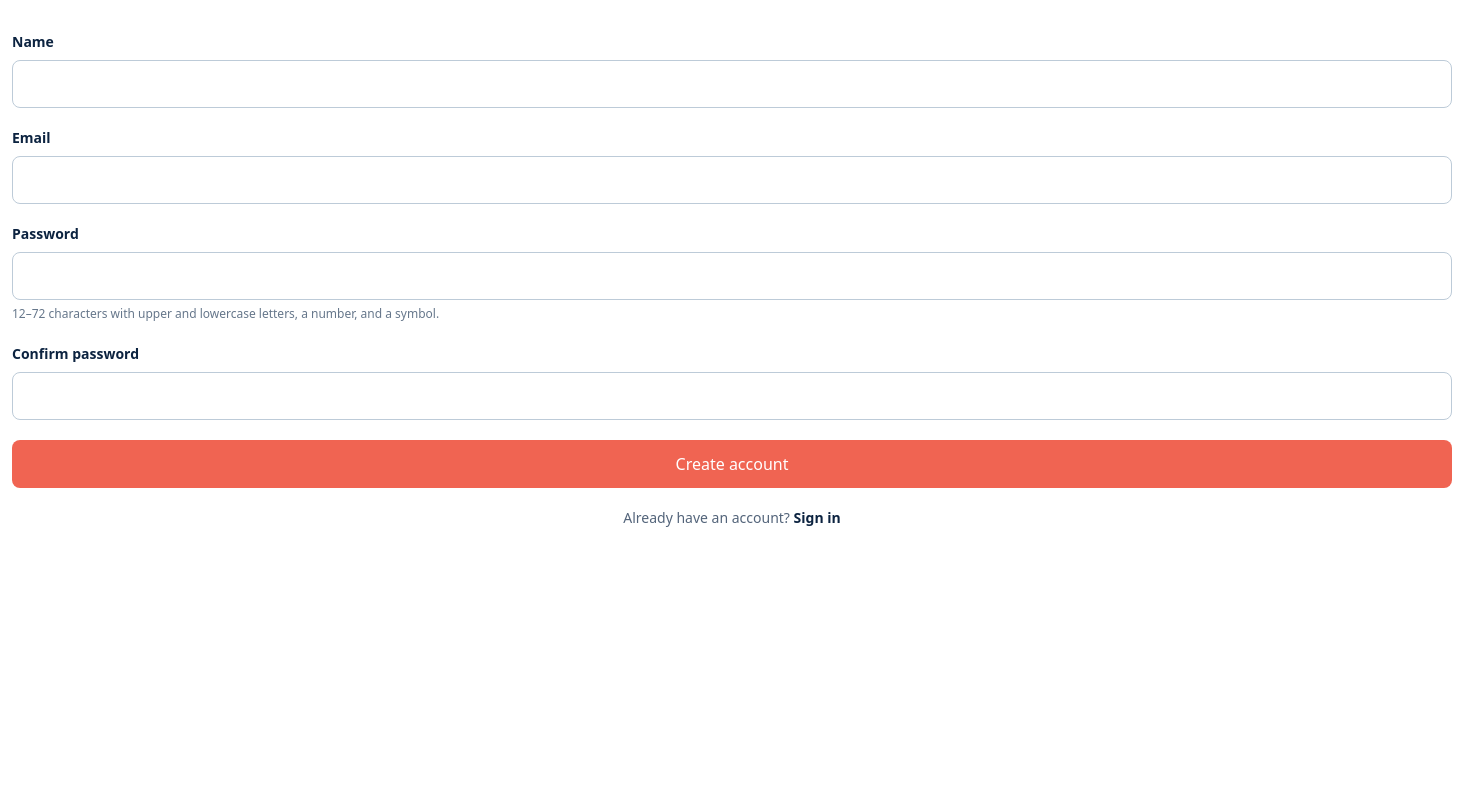
Test case: AuthForm › renders field-safe validation feedback
Type "Elena Rossi" into the field labelled "Name" at (732,84), box [12,60,1452,108]
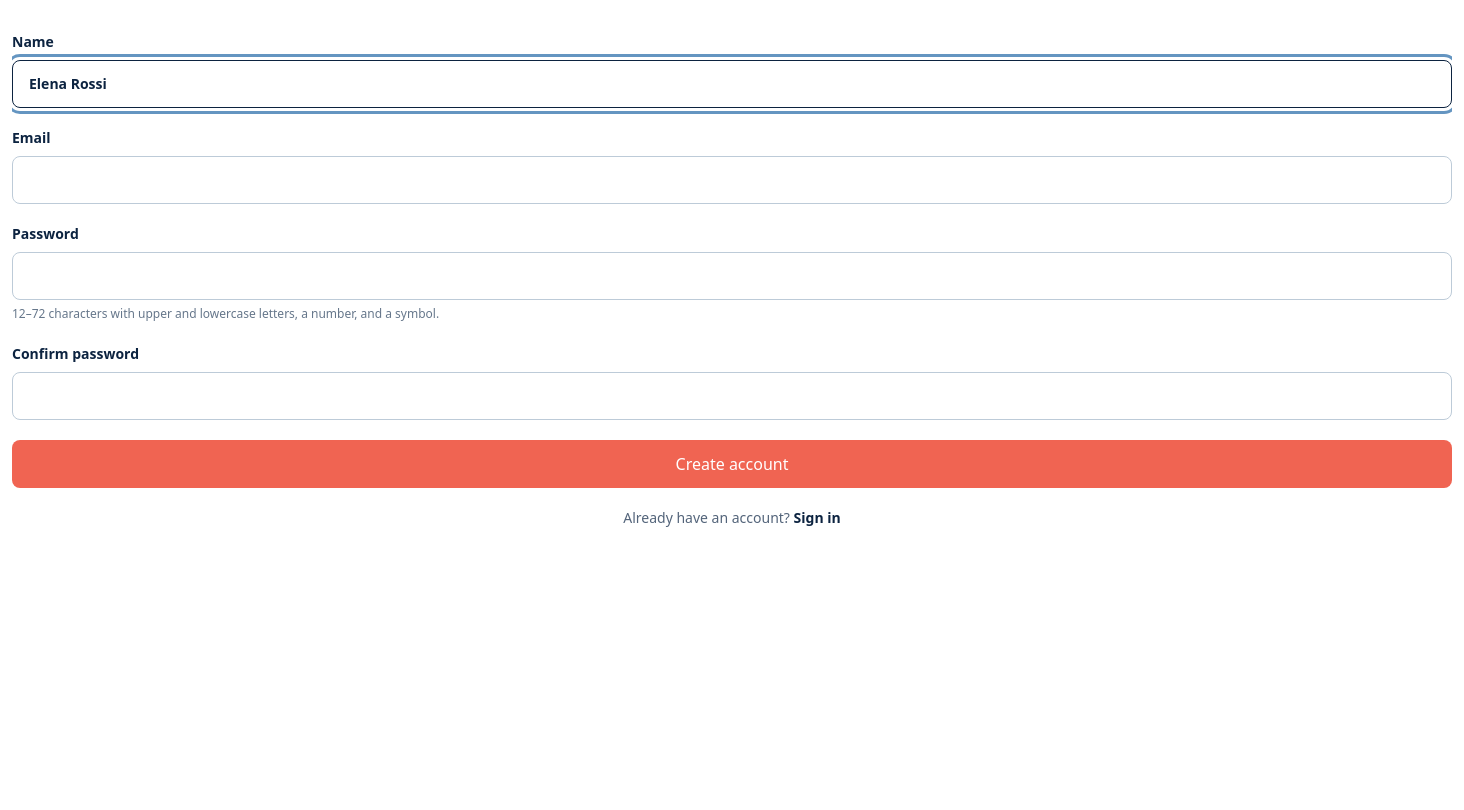
Type "elena@example.test" into the field labelled "Email" at (732,180), box [12,156,1452,204]
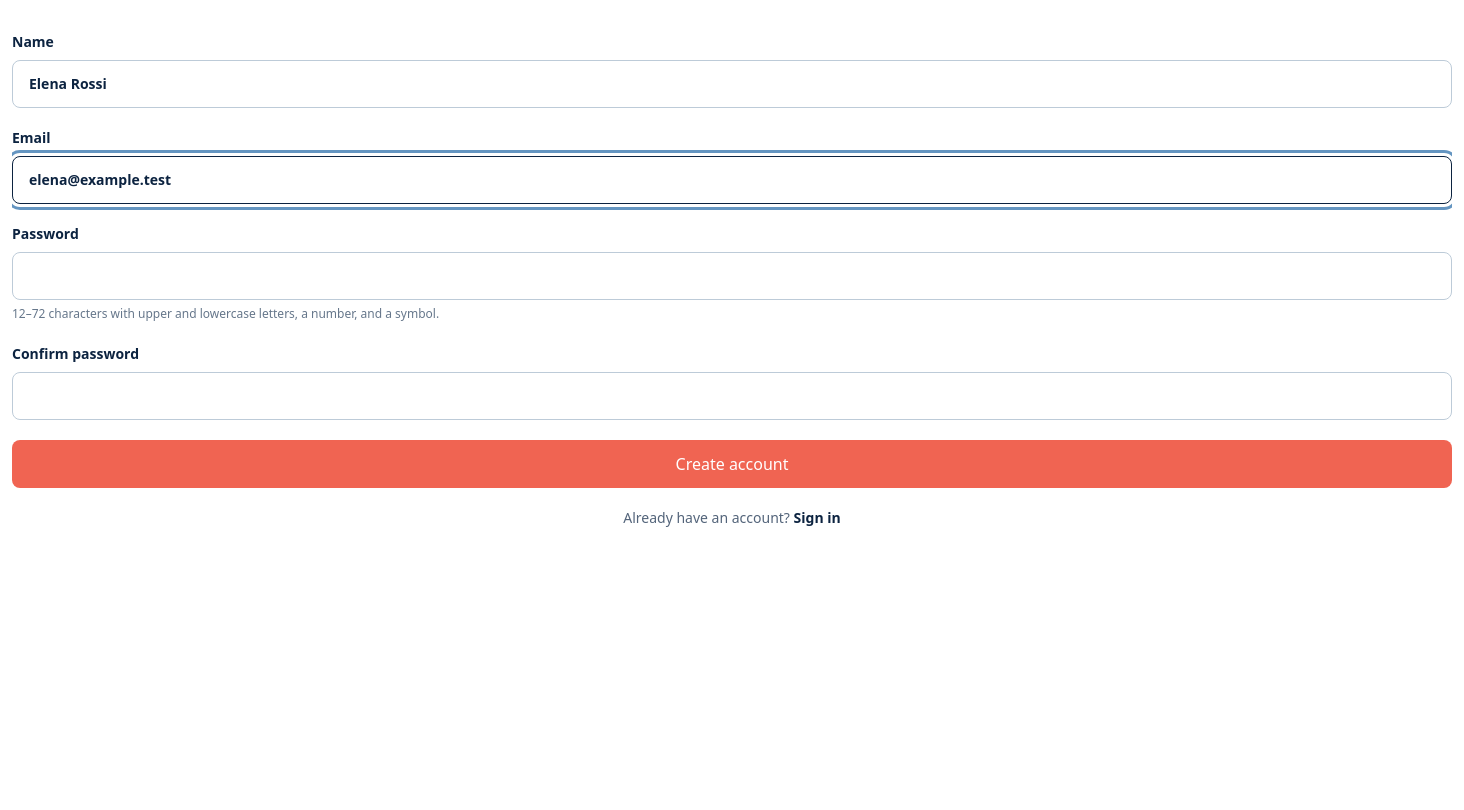
Type "Correct-Horse-Battery1!" into the password field labelled "Password" at (732,276), box [12,252,1452,300]
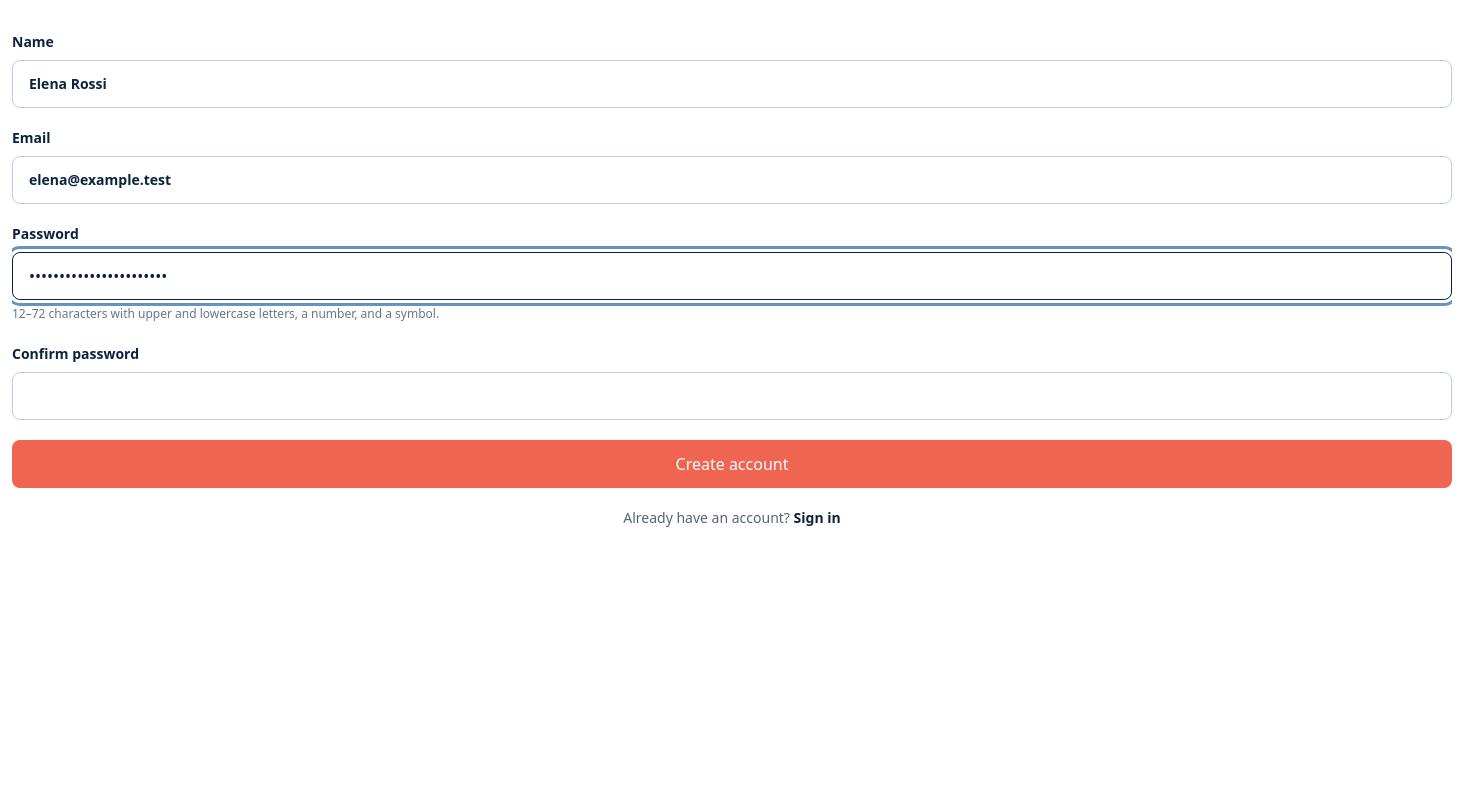
Type "Correct-Horse-Battery1!" into the password field labelled "Confirm password" at (732,396), box [12,372,1452,420]
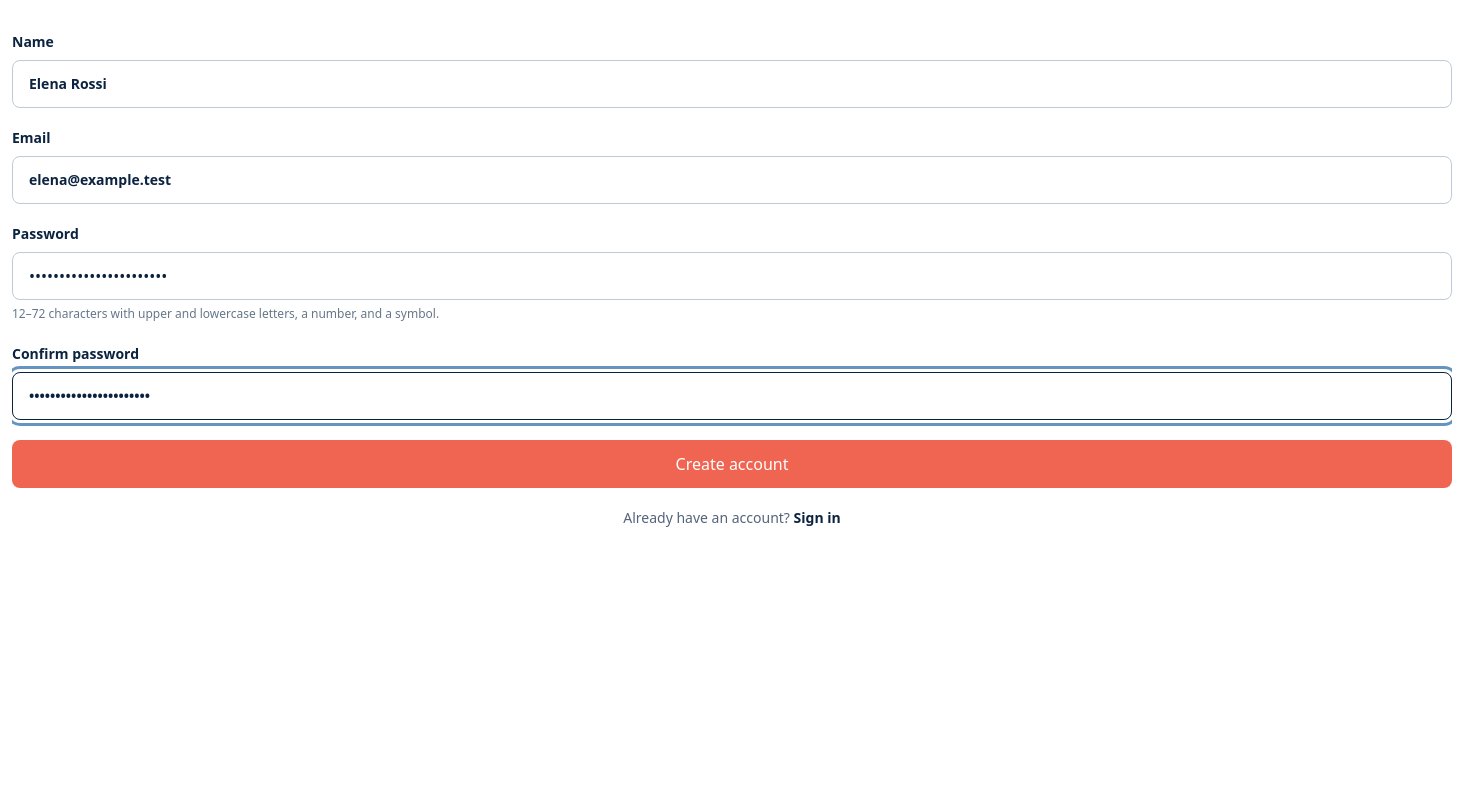
Click the button "Create account" at (732,464), box [12,440,1452,488]
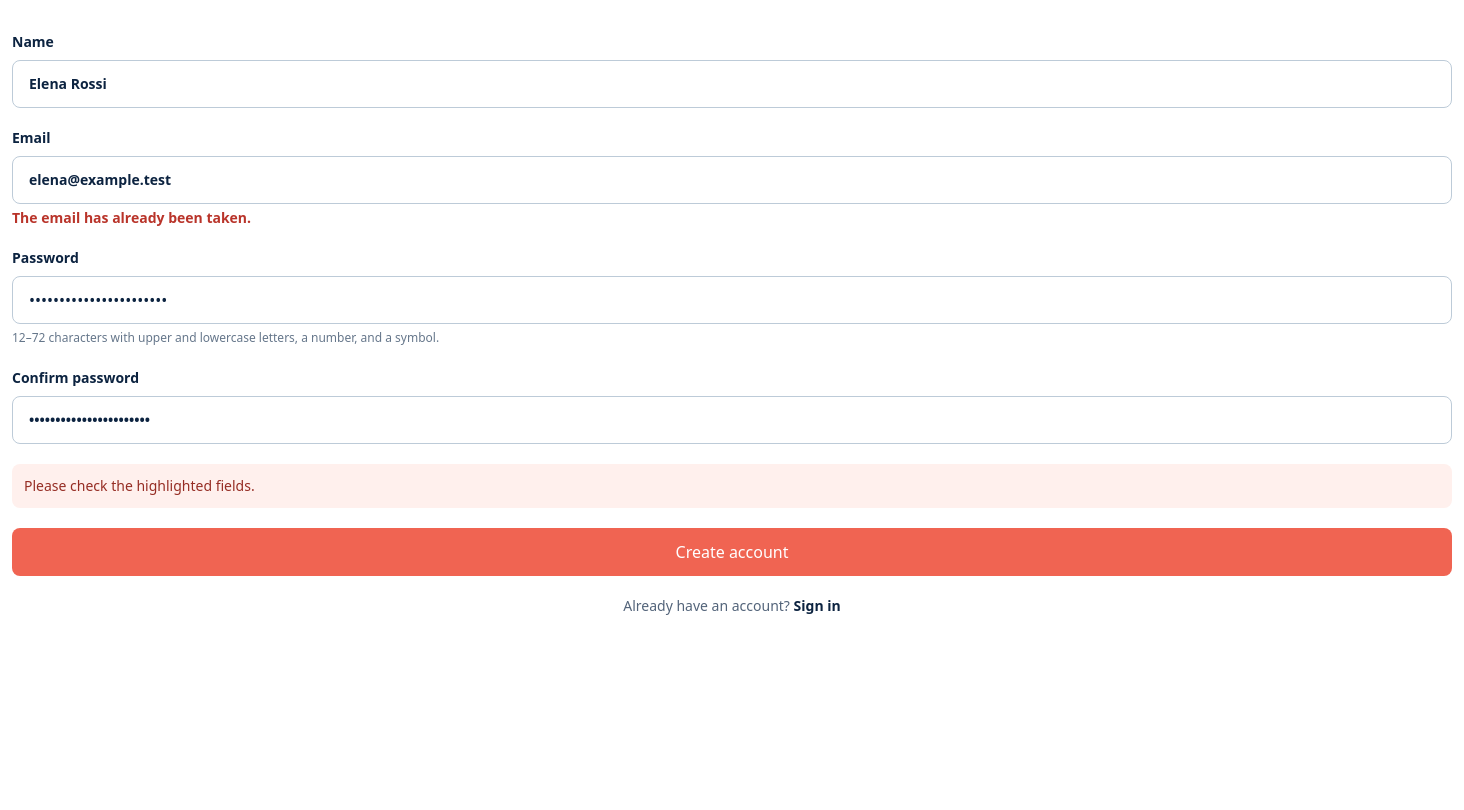
Now the text "The email has already been taken." is shown, box [12,208,251,227]
Now the message reads "Please check the highlighted fields.", box [24,476,255,495]
